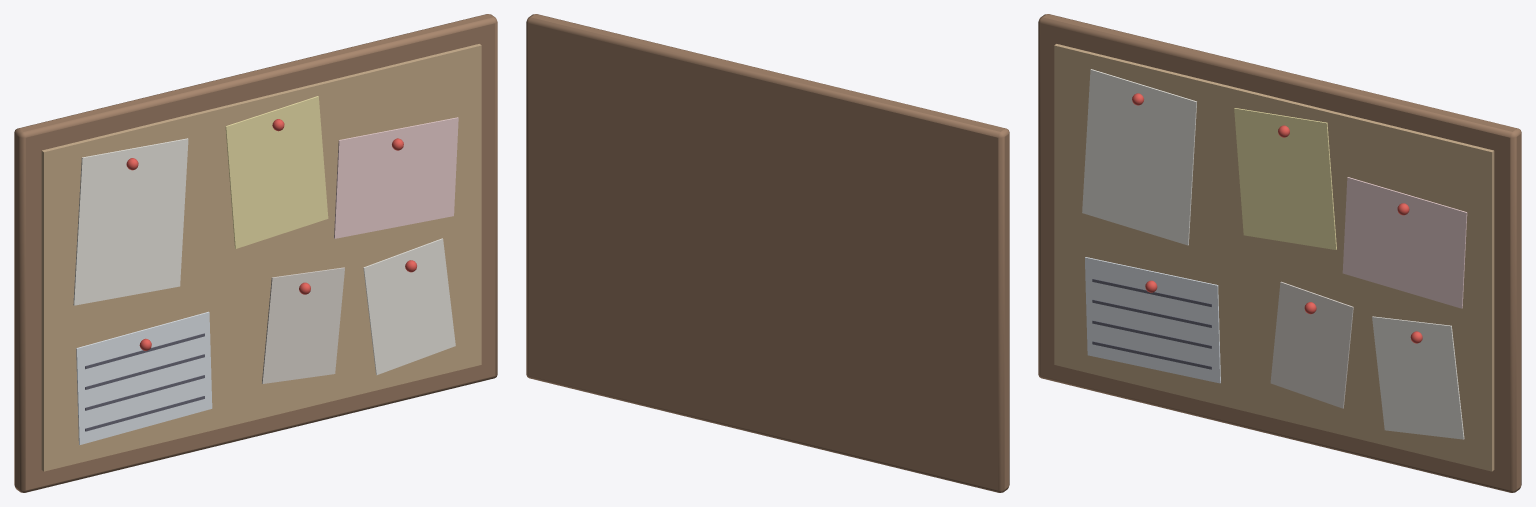
File: dn_corkboard.fbx
3 renders of one model, left to right at view 1: azimuth 30°, elevation 25°; view 2: azimuth 150°, elevation 25°; view 3: azimuth 330°, elevation 25°, orthographic.
Visible parts, largest first — view 1: Cork, Frame, Note0, Note3, Note1, Note2, Note5, Note4; view 2: Frame; view 3: Cork, Frame, Note0, Note3, Note1, Note2, Note5, Note4.
Part boxes in pixels (x1,y1,x2,y2): Cork: [41, 44, 481, 471]; Frame: [14, 14, 497, 492]; Note0: [73, 138, 188, 305]; Note3: [76, 311, 212, 444]; Note1: [225, 96, 328, 248]; Note2: [334, 117, 458, 238]; Note5: [363, 238, 455, 374]; Note4: [262, 267, 344, 383]; Frame: [526, 14, 1009, 492]; Cork: [1054, 44, 1494, 471]; Frame: [1038, 14, 1521, 492]; Note0: [1082, 69, 1196, 245]; Note3: [1085, 257, 1220, 383]; Note1: [1234, 108, 1336, 249]; Note2: [1342, 177, 1467, 308]; Note5: [1372, 316, 1464, 439]; Note4: [1270, 281, 1353, 408].
Bounding box in the file's own units: 0.72 × 0.52 × 0.044.
